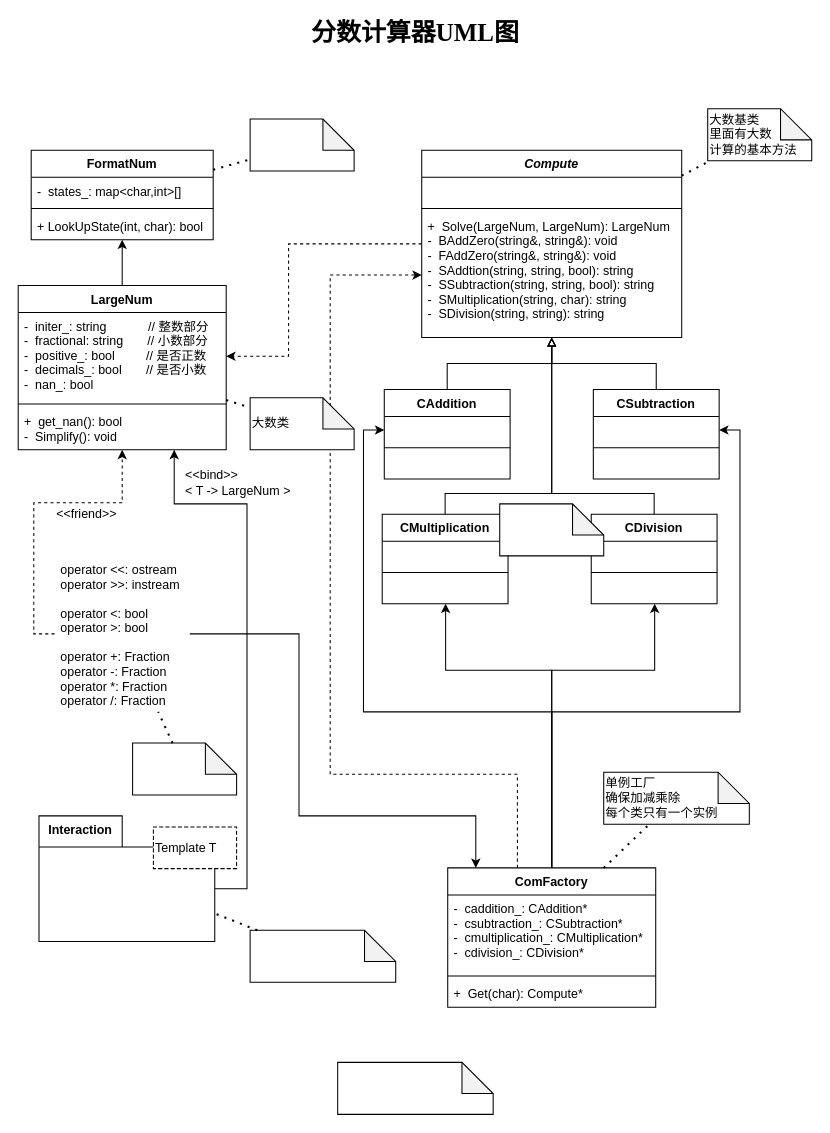
The diagram is 830 pixels wide and 1133 high, and some of its shapes have lost their labels. Each missing label, with the centre of its shape:
交互模块 代码与上一题一致 故略: [322,955]
四个子类 实现加减乘除: [551,529]
流程图与上一题一致 故略: [415,1087]
状态转移表: [301,144]
运算符重载: [184,768]
